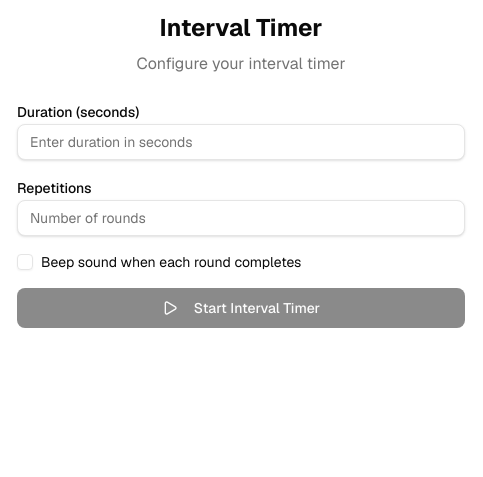
Test: RepeatTimer › Timer Execution › should show pause button when timer is running
Step 1. Type "1" into the number field labelled "Duration (seconds)" → x=241, y=142, box [17, 124, 465, 160]
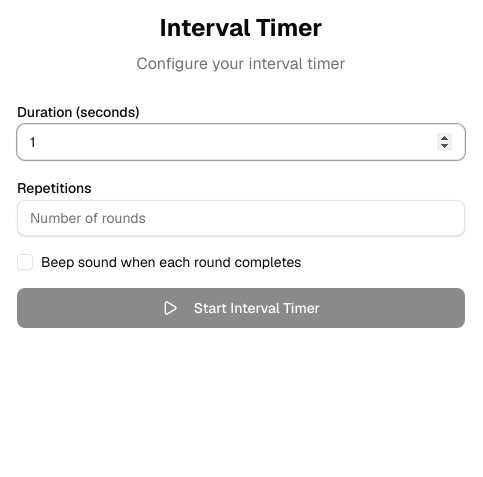
Step 2. Type "2" into the number field labelled "Repetitions" → x=241, y=218, box [17, 200, 465, 236]
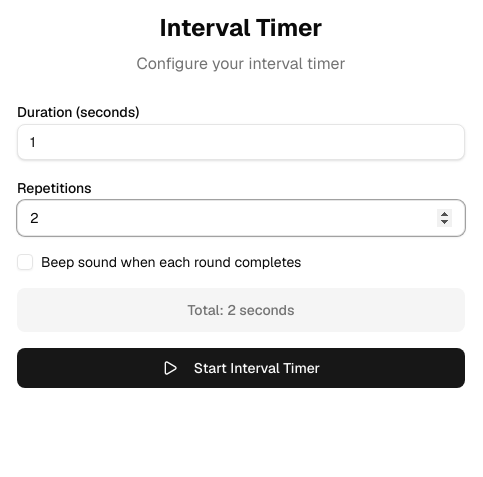
Step 3. Click the button "Start Interval Timer" → x=241, y=368, box [17, 348, 465, 388]
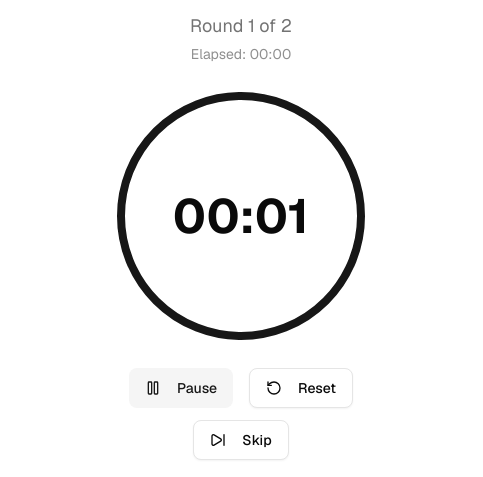
Now the button "Pause" is shown, box [129, 368, 233, 408]
